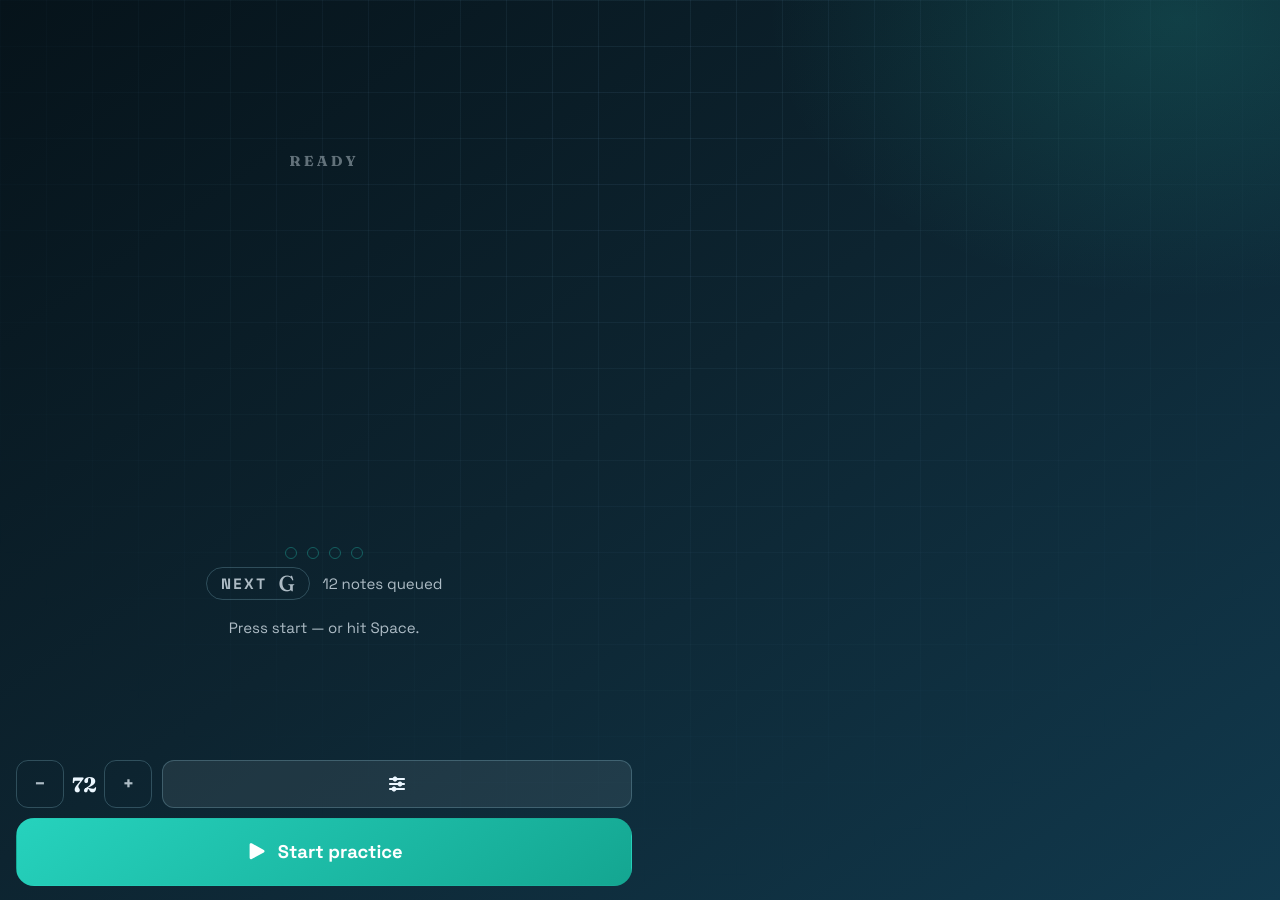
Test: the stand reading › nudges the tempo from the stand without opening the sheet
Expected: the element with test id "stage-bpm-value" reads "72", x1=72 y1=772 x2=96 y2=796
What coordinates should you click on to do the following:
click the button with test id "stage-bpm-up"
I would click on:
 (128, 784)
Its box is x1=104 y1=760 x2=152 y2=808.
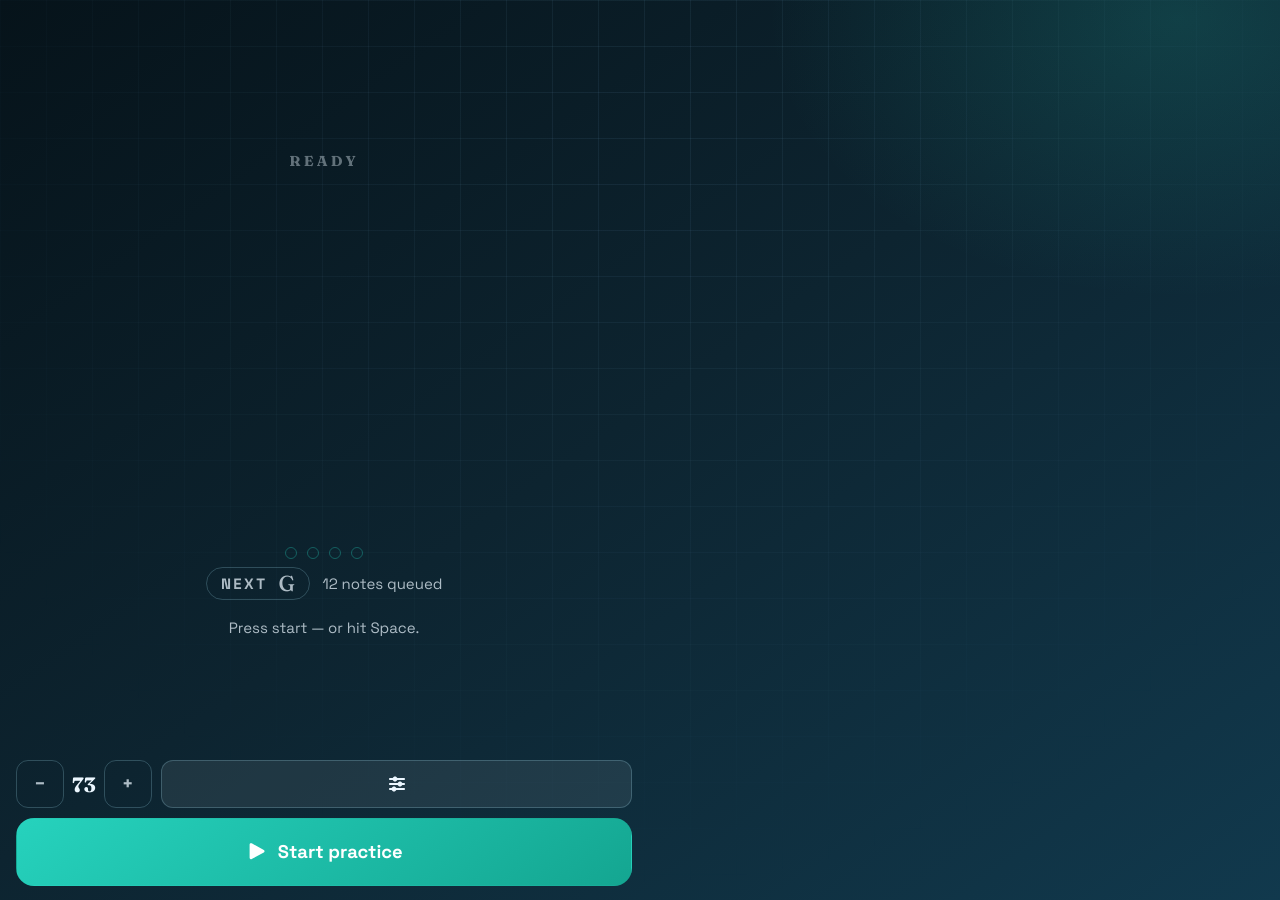
What coordinates should you click on to do the following:
click the button with test id "stage-bpm-up"
I would click on:
 (128, 784)
Its box is x1=104 y1=760 x2=152 y2=808.
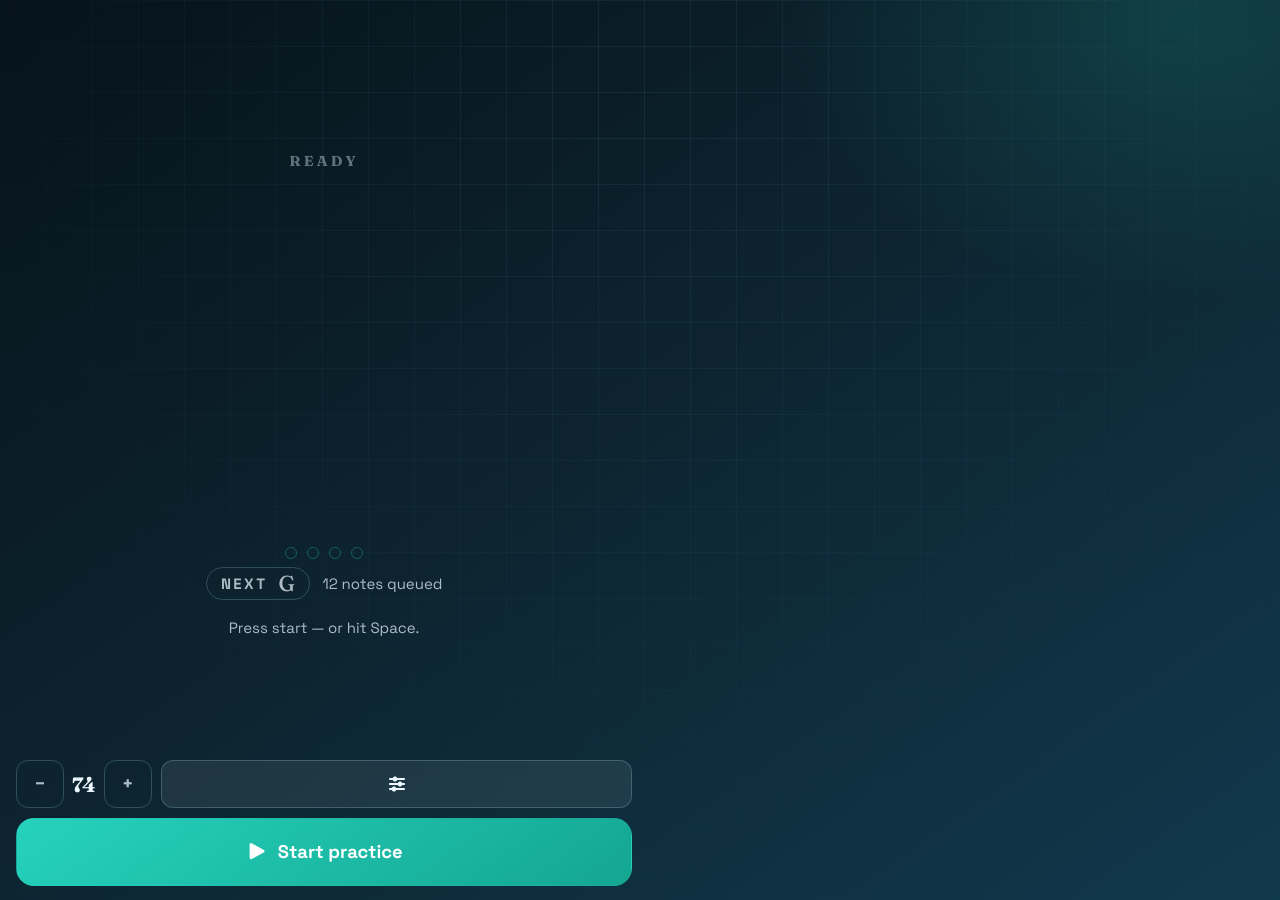
What coordinates should you click on to do the following:
click the button with test id "stage-bpm-down"
I would click on:
 (40, 784)
Its box is x1=16 y1=760 x2=64 y2=808.
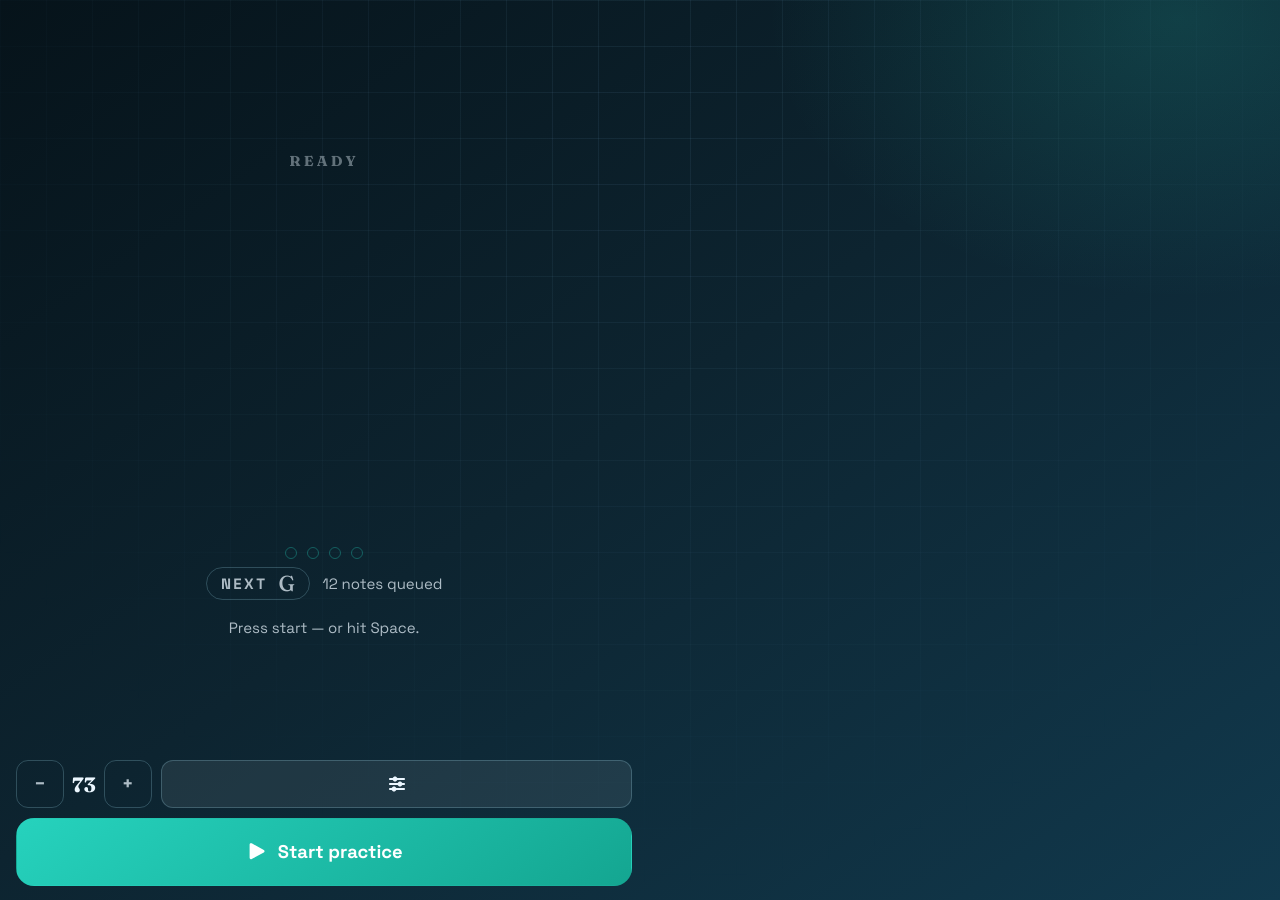
Now the element with test id "stage-bpm-value" reads "73", box x1=72 y1=772 x2=96 y2=796
